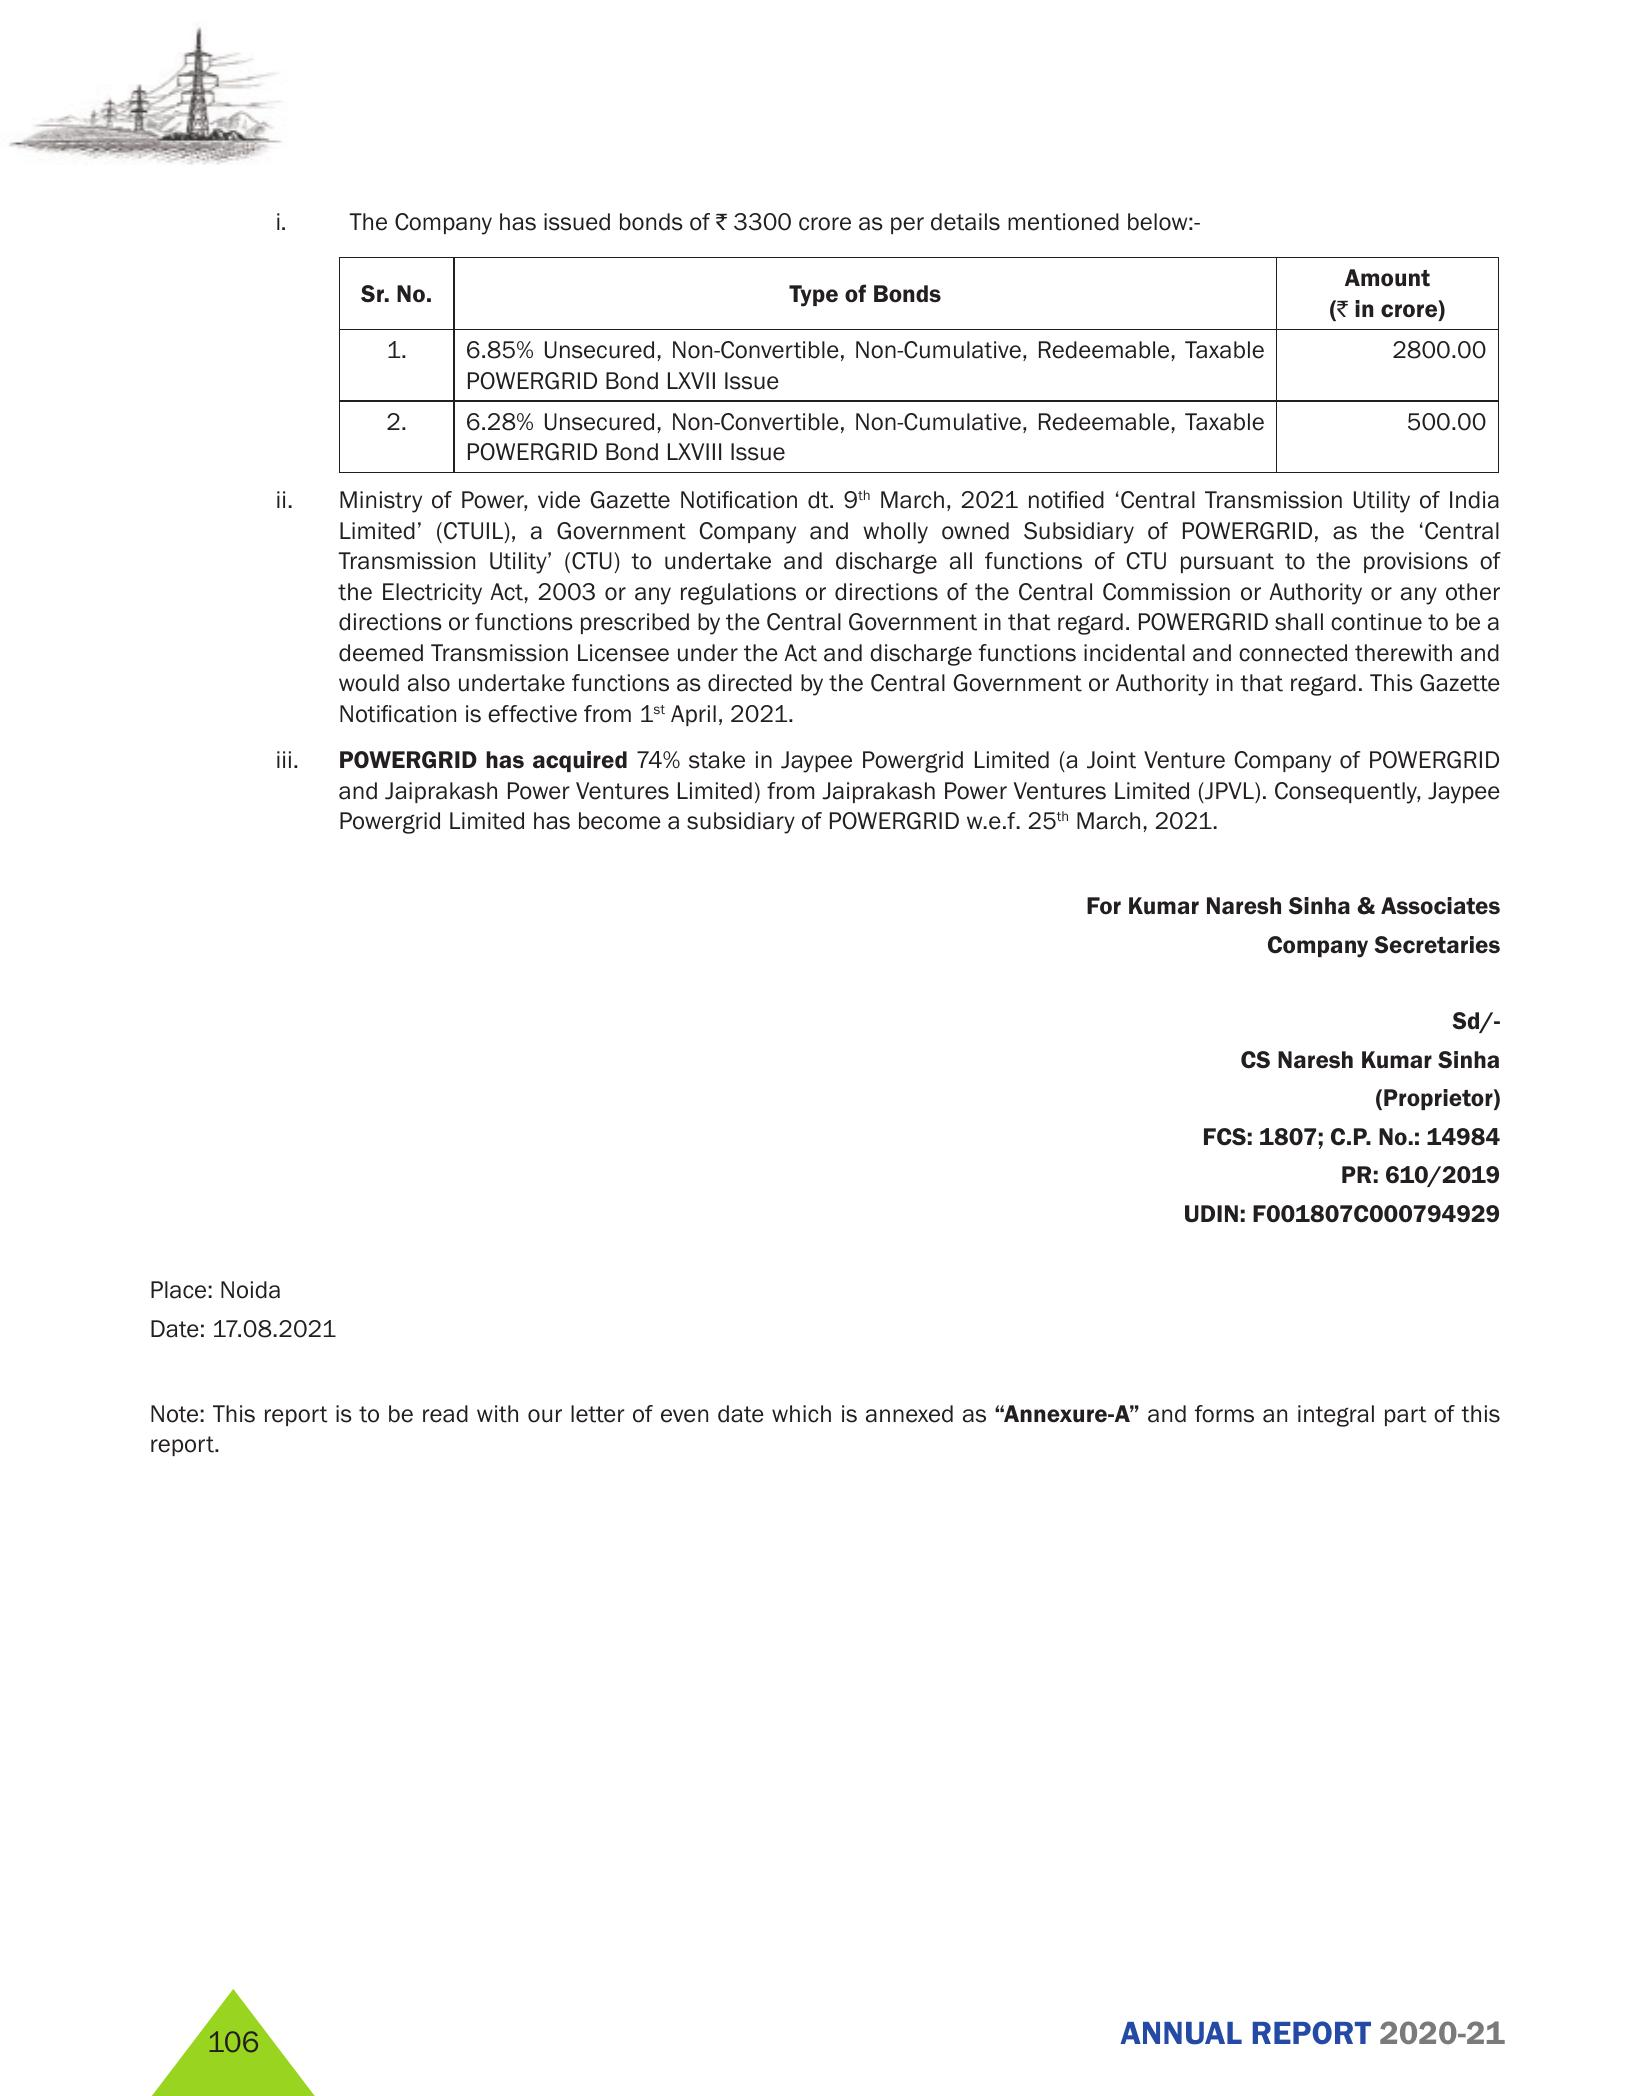Footer: (0, 1979, 1650, 2096)
Header: (0, 0, 1650, 192)
Table: (289, 236, 1539, 454)
